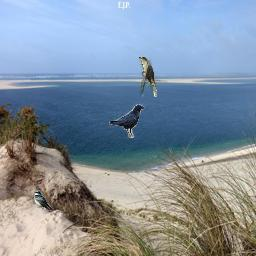Crow: (109, 104, 145, 138)
Cuckoo: (139, 57, 157, 97)
Swallow: (34, 190, 54, 210)
